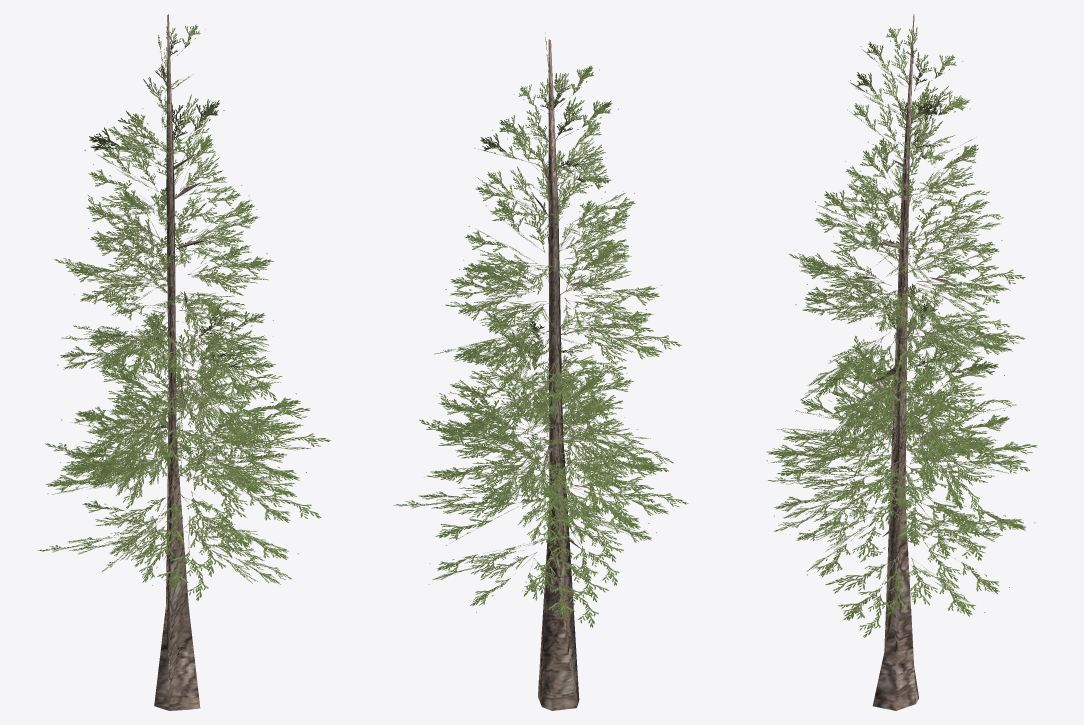
File: tree_spruce_far.glb
The picture shows the model from 3 angles, left to right: view 1: azimuth 30°, elevation 25°; view 2: azimuth 150°, elevation 25°; view 3: azimuth 270°, elevation 25°; orthographic projection. The views are drawn at different scales.
Visible parts, largest first — view 1: leaf, trunk; view 2: leaf, trunk; view 3: leaf, trunk.
Boxes of the visible parts, left/top/right/bottom form: leaf: left=37, top=24, right=330, bottom=600; trunk: left=151, top=14, right=206, bottom=710; leaf: left=393, top=32, right=688, bottom=627; trunk: left=527, top=39, right=593, bottom=710; leaf: left=766, top=27, right=1037, bottom=637; trunk: left=855, top=14, right=956, bottom=710.
Bounding box in the file's own units: 5.19 × 11.57 × 5.11.
2 materials, 2 textured.
